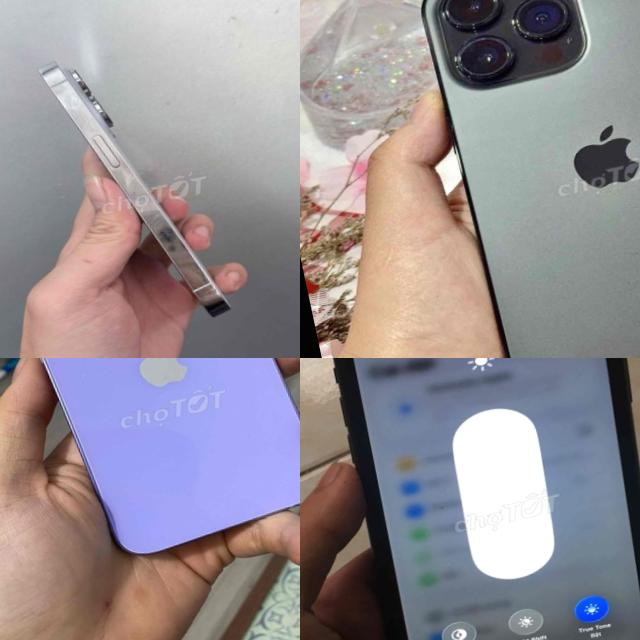scratch: (137, 195, 187, 252), (181, 257, 230, 307)
